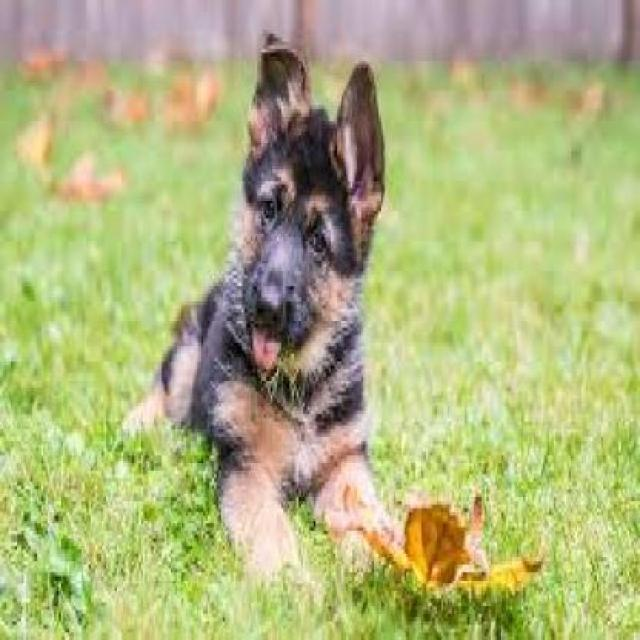animals: (126, 36, 425, 590)
